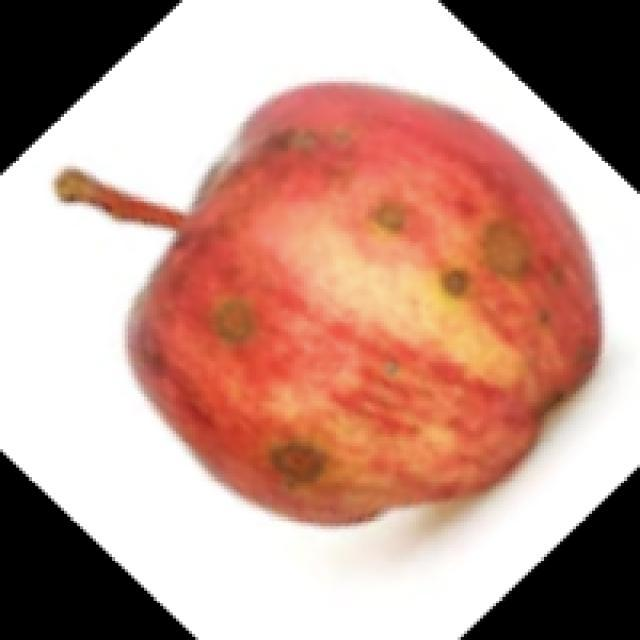Rotten: (105, 65, 577, 520)
